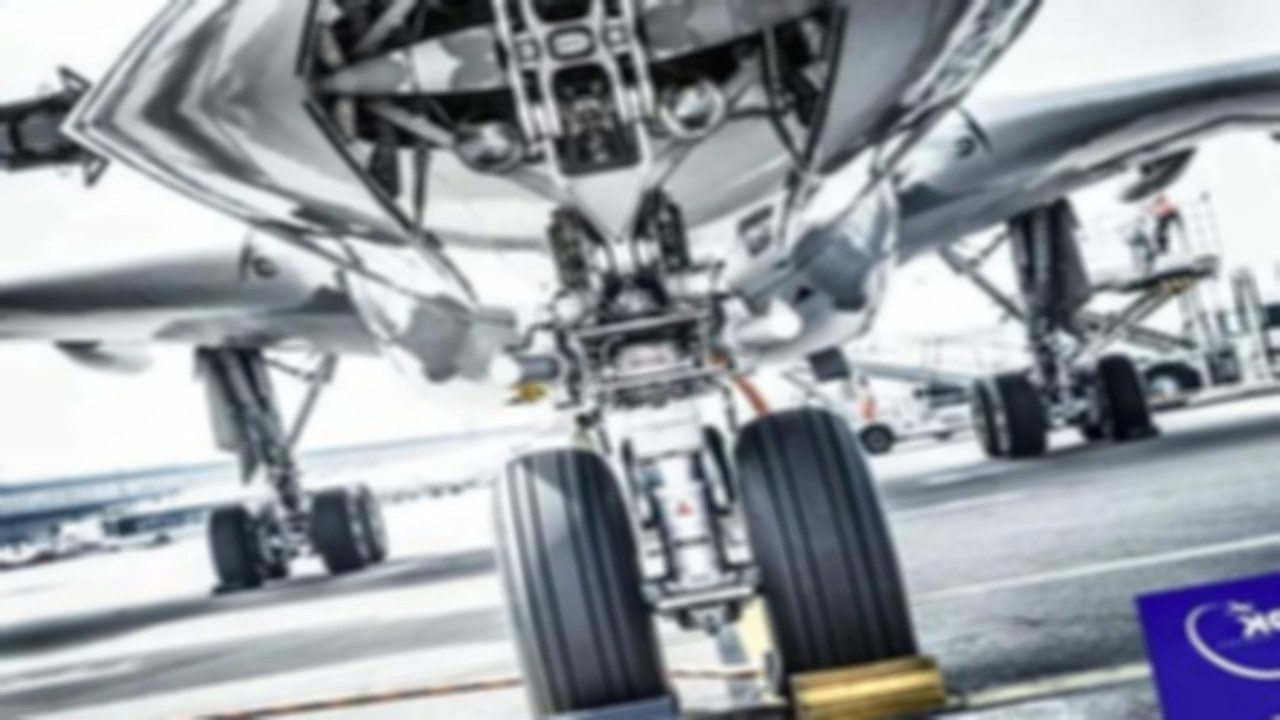chock: (783, 646, 958, 720), (522, 691, 684, 720), (205, 573, 267, 601), (1108, 421, 1165, 446)
wheel: (720, 397, 935, 705), (471, 437, 690, 720), (1061, 347, 1159, 446), (968, 365, 1056, 462), (308, 478, 394, 573), (201, 497, 286, 593), (242, 500, 300, 583), (1062, 360, 1114, 442), (345, 480, 395, 563), (698, 420, 742, 511), (1137, 356, 1206, 412), (964, 376, 1010, 459), (616, 434, 658, 523), (857, 420, 898, 456)
